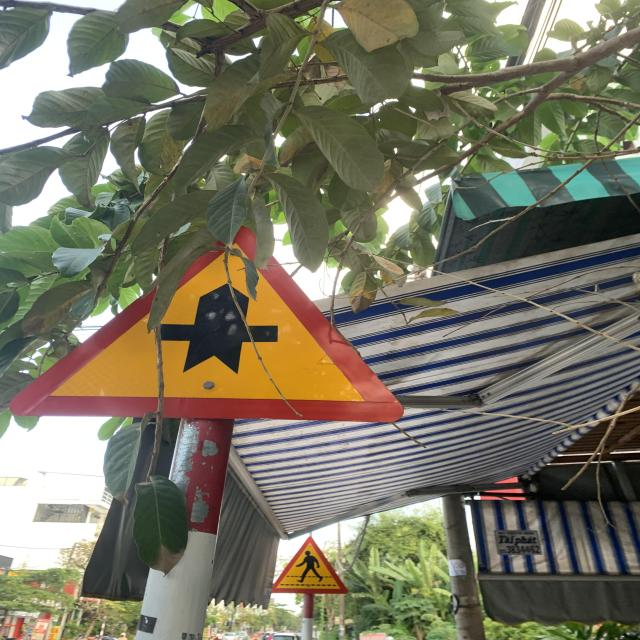Duong_Nguoi_Di_Bo_Sang_Ngang: (271, 534, 349, 592)
